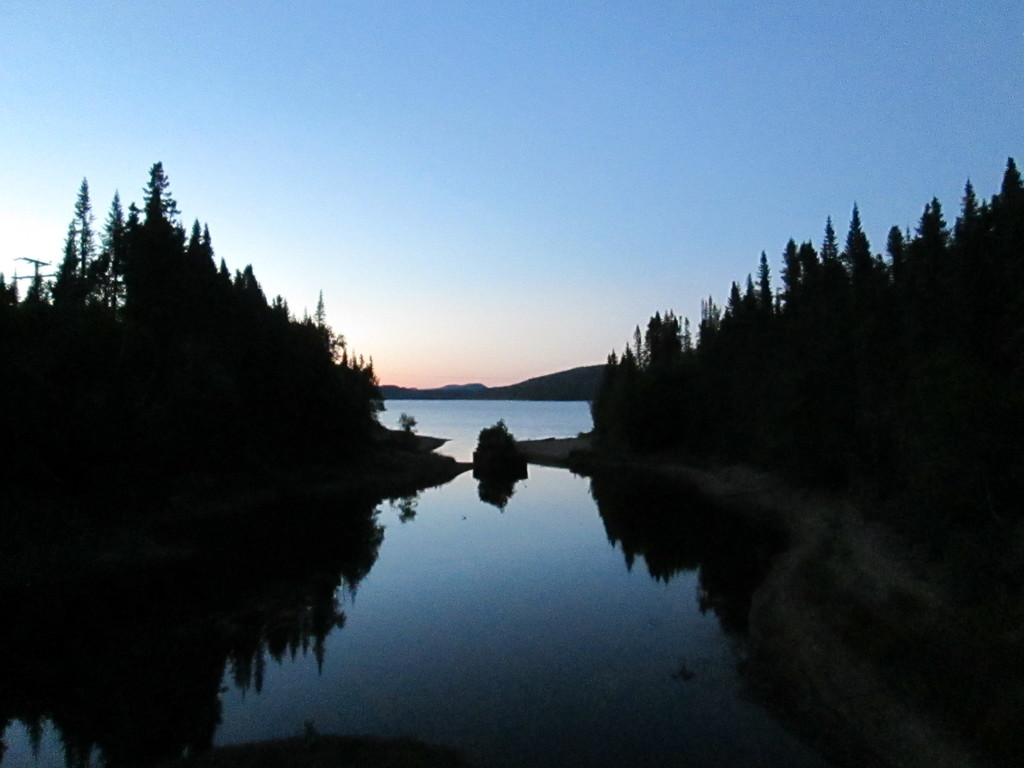Tree: (588, 156, 1023, 446), (0, 159, 385, 415), (48, 177, 104, 316), (398, 407, 414, 438)
